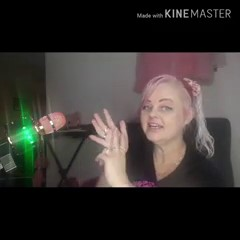V: (90, 108, 134, 185)
